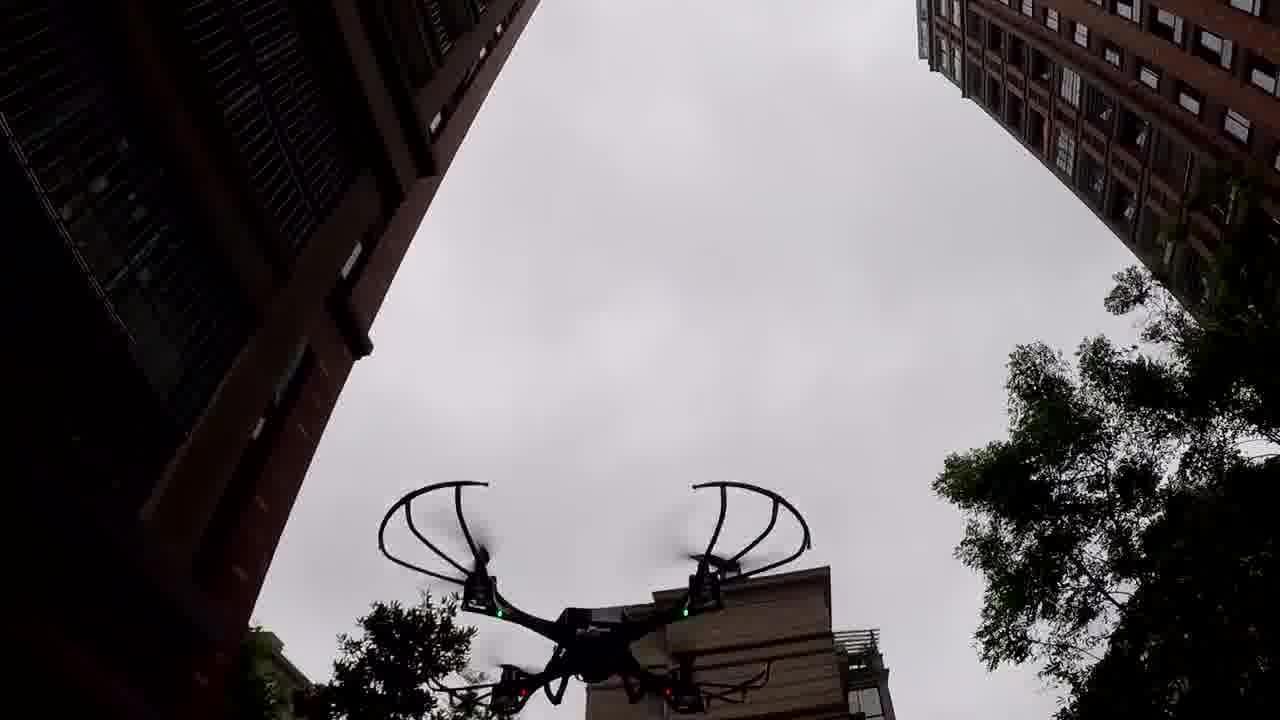drone: (363, 475, 794, 719)
